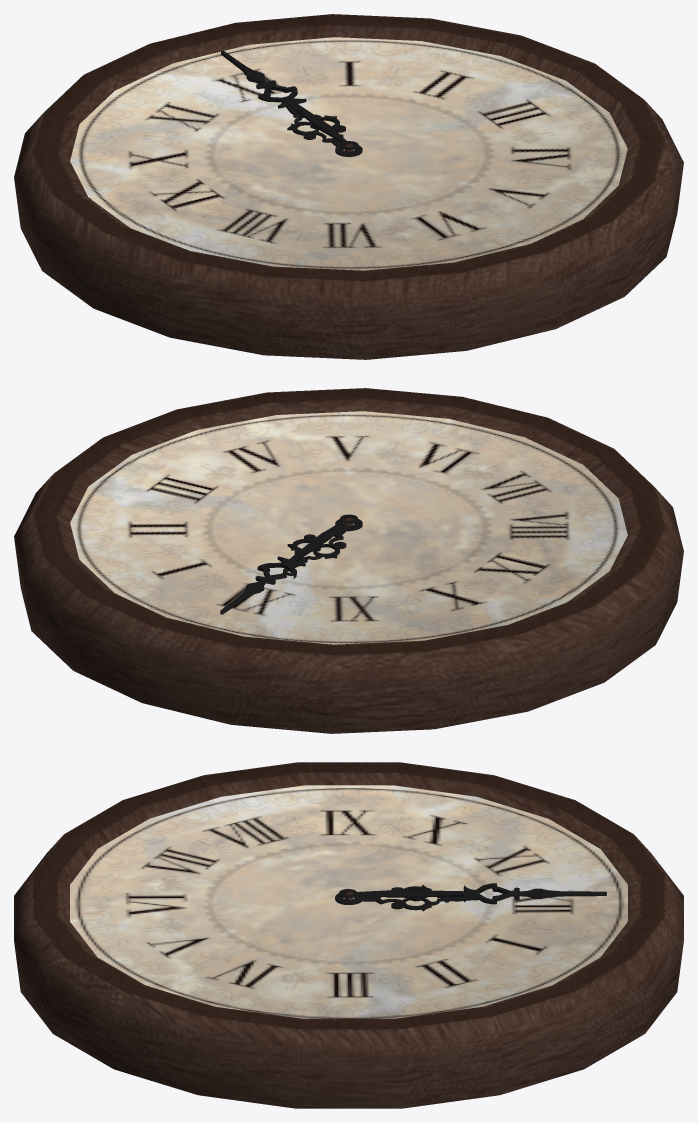
The model's file is GDTWallClock.fbx.
The picture shows the model from 3 angles, top to bottom: view 1: azimuth 30°, elevation 25°; view 2: azimuth 150°, elevation 25°; view 3: azimuth 270°, elevation 25°; orthographic projection.
Parts seen in each view (by area): view 1: ClockBody, Minute-Hand, Hour-Hand; view 2: ClockBody, Minute-Hand, Hour-Hand; view 3: ClockBody, Minute-Hand, Hour-Hand.
Part boxes in pixels (x1=…): ClockBody: x1=14, y1=14, x2=683, y2=359; Minute-Hand: x1=221, y1=50, x2=358, y2=149; Hour-Hand: x1=286, y1=106, x2=362, y2=156; ClockBody: x1=14, y1=388, x2=683, y2=733; Minute-Hand: x1=220, y1=514, x2=357, y2=614; Hour-Hand: x1=283, y1=519, x2=362, y2=572; ClockBody: x1=14, y1=762, x2=683, y2=1108; Minute-Hand: x1=339, y1=883, x2=606, y2=904; Hour-Hand: x1=335, y1=885, x2=478, y2=911.
Bounding box in the file's own units: 67.41 × 8.64 × 67.41.
Materials: 1 (1 with a texture image).
